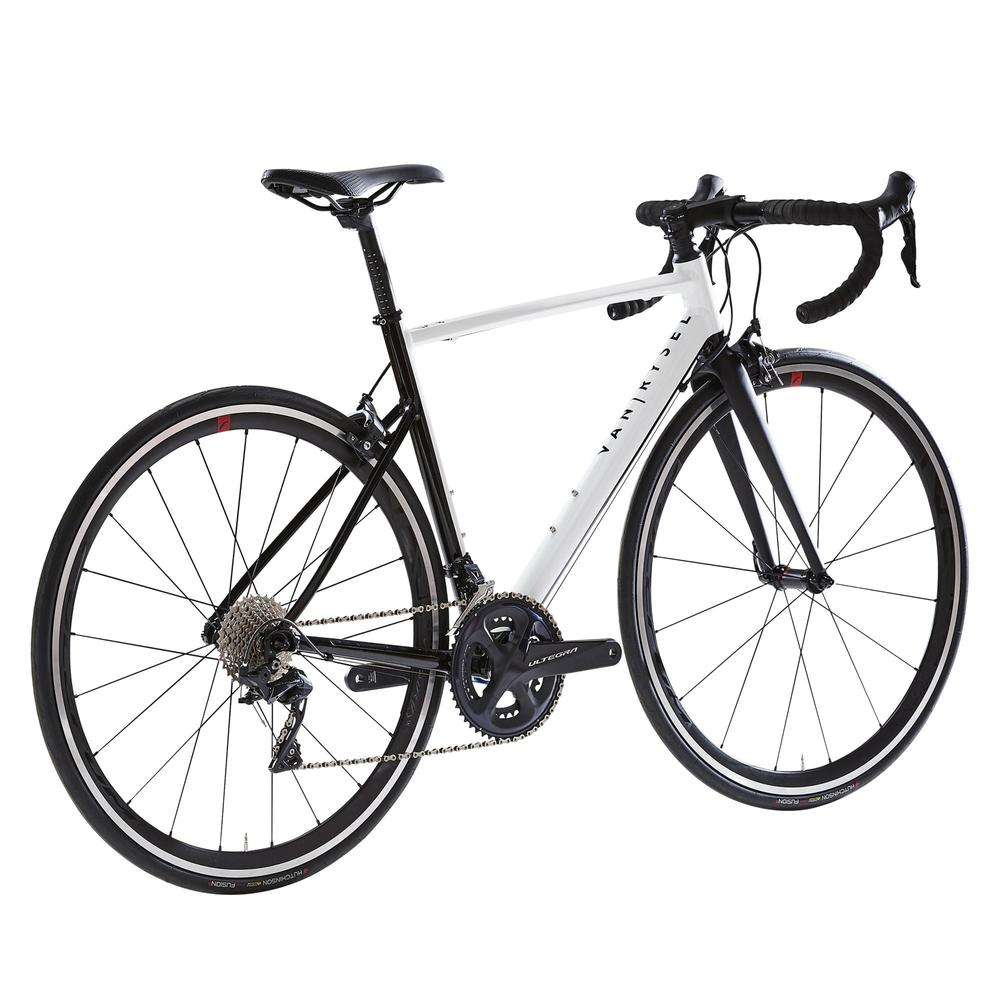RoadBike: (54, 167, 977, 883)
